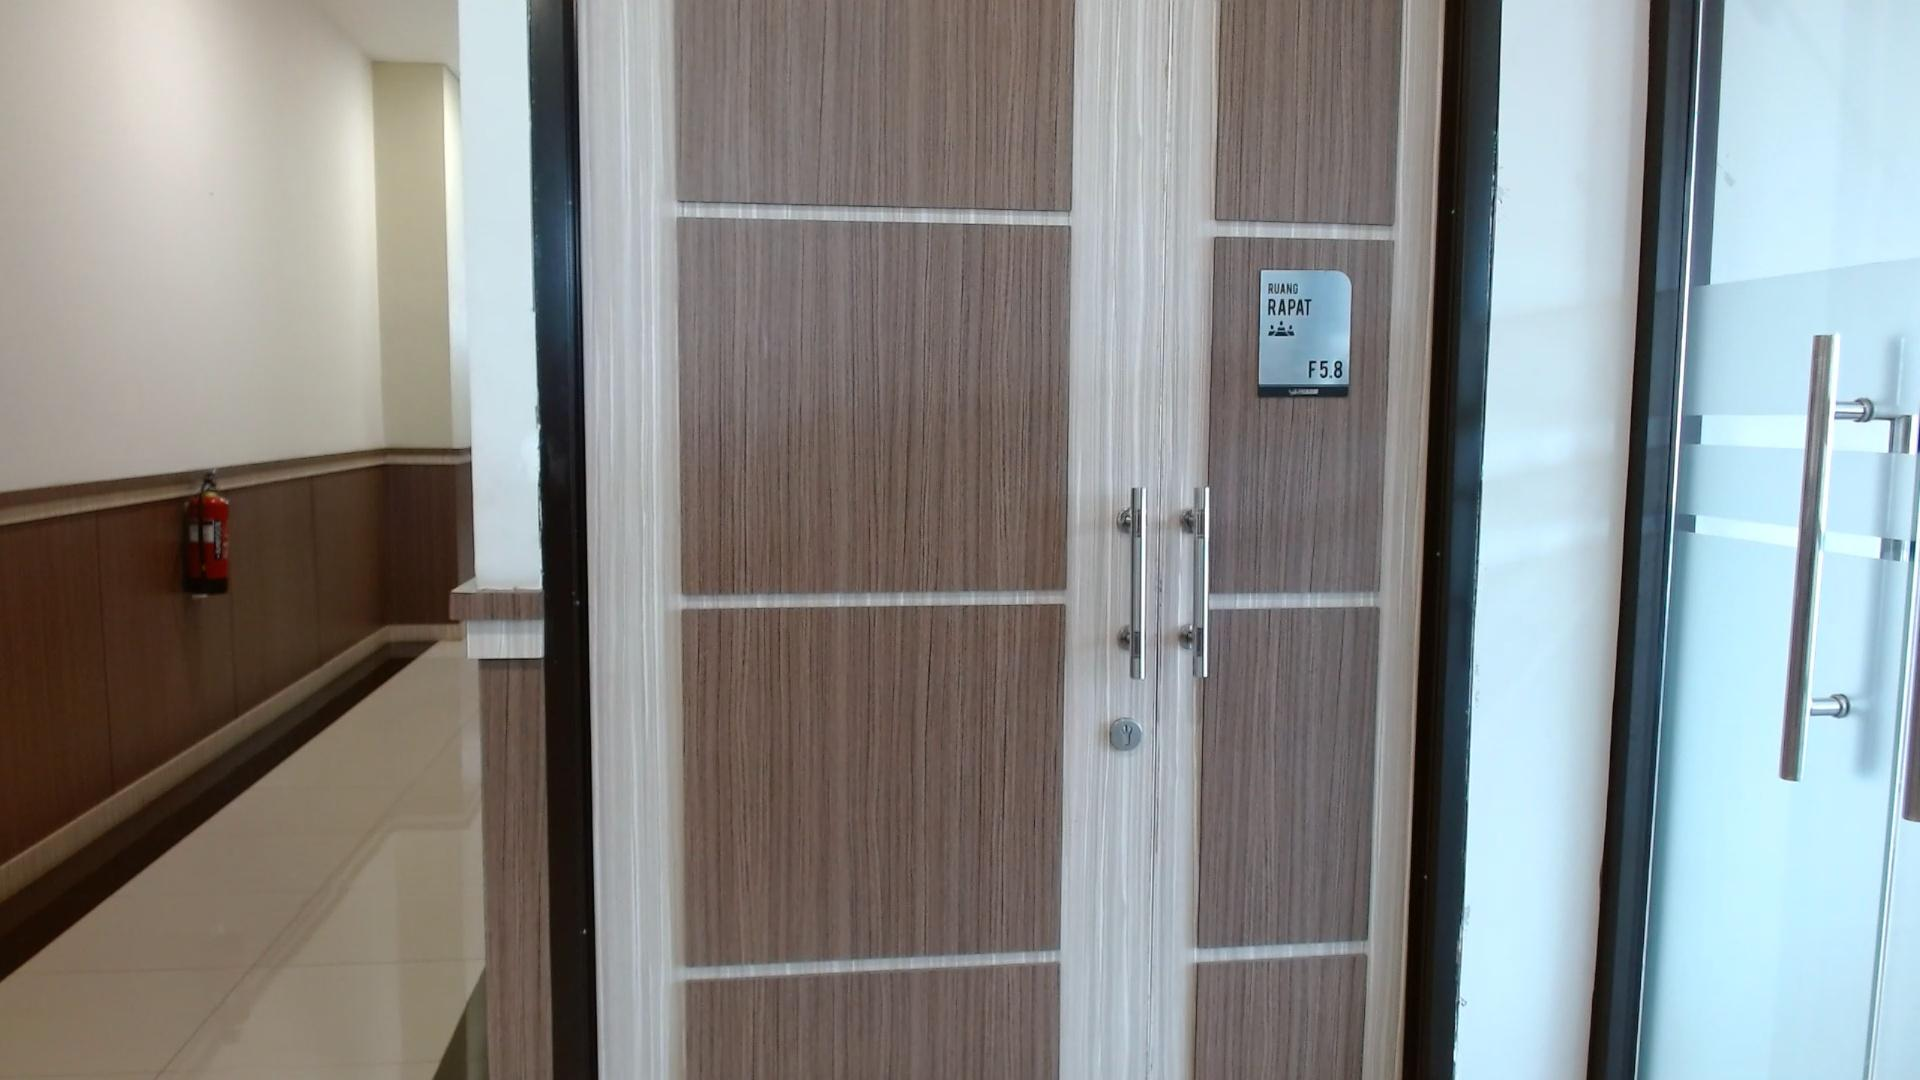plate: (1258, 269, 1353, 400)
